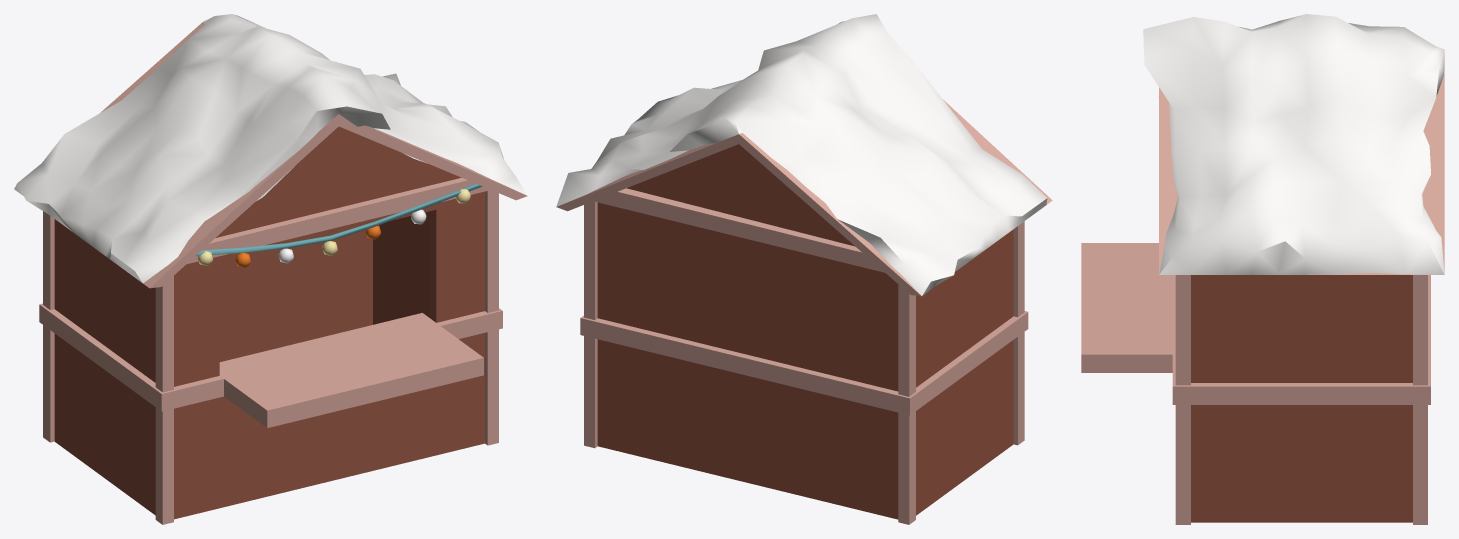
File: Booth_1.glb
3 renders of one model, left to right at view 1: azimuth 30°, elevation 25°; view 2: azimuth 150°, elevation 25°; view 3: azimuth 270°, elevation 25°, orthographic. The views are drawn at different scales.
Parts seen in each view (by area): view 1: Booth_1; view 2: Booth_1; view 3: Booth_1.
Part boxes in pixels (x1,y1,x2,y2): Booth_1: [14, 14, 527, 524]; Booth_1: [556, 14, 1052, 524]; Booth_1: [1081, 14, 1444, 524].
Bounding box in the file's own units: 3.35 × 3.28 × 2.54.
1 material, 1 textured.
